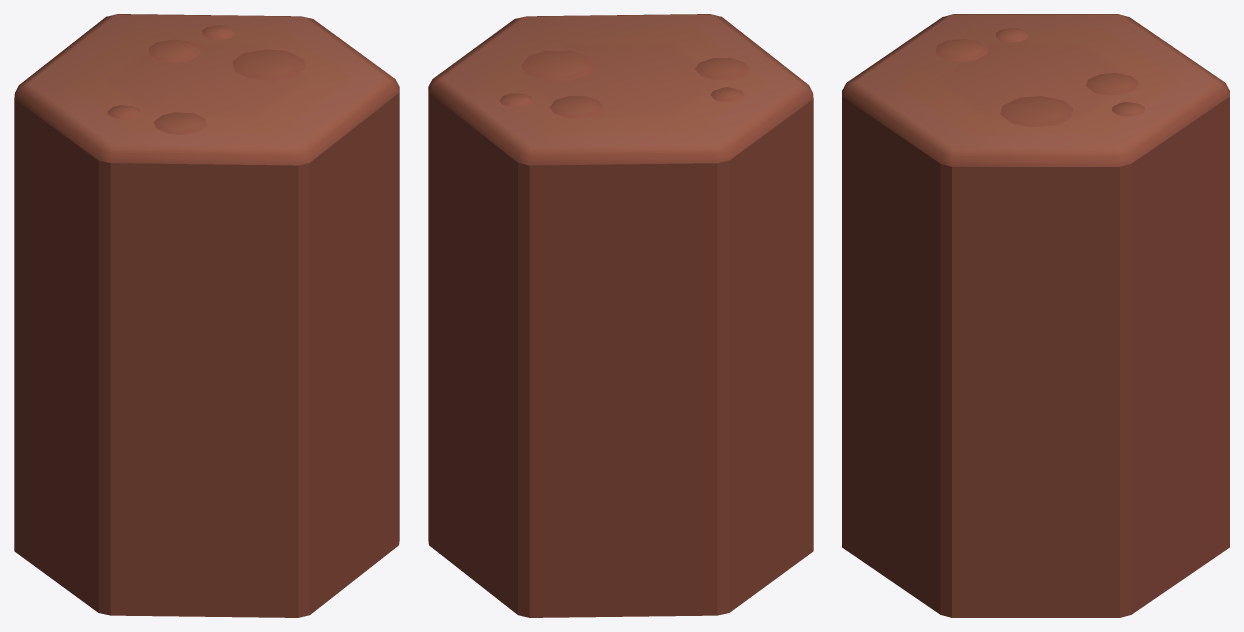
The model's file is hex_dirt_thick.glb.
3 views of the same model, side by side, from view 1: azimuth 30°, elevation 25°; view 2: azimuth 150°, elevation 25°; view 3: azimuth 270°, elevation 25° (orthographic).
Parts seen in each view (by area): view 1: building_dirt; view 2: building_dirt; view 3: building_dirt.
Boxes of the visible parts, x1,y1,x2,y2 form: building_dirt: [14, 14, 399, 617]; building_dirt: [428, 14, 813, 617]; building_dirt: [842, 14, 1229, 617].
Bounding box in the file's own units: 1.79 × 2.66 × 2.01.
Materials: 1 (1 with a texture image).
